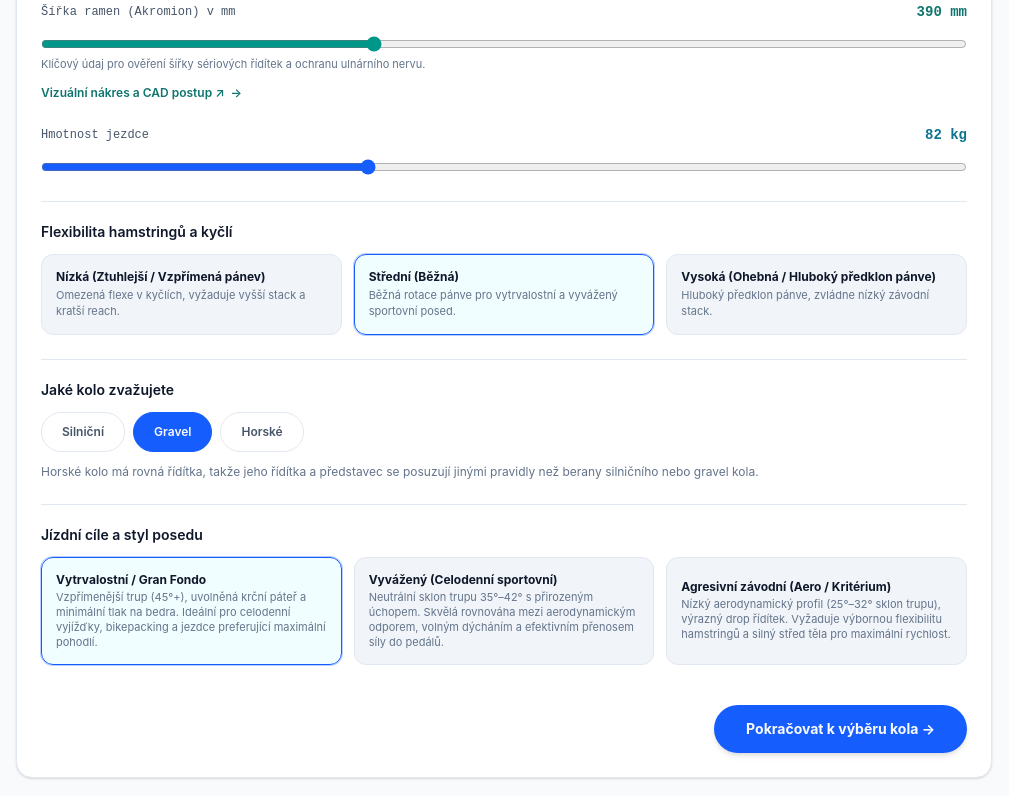
Test: Path B: the way to the bike finder (cs) › should ask the questions of the kind of bike chosen in step 1
The image size is (1009, 796).
(page scrolled)
Click the button "Pokračovat k výběru kola →" at {"x": 841, "y": 729}, box [714,705,967,753]
(page scrolled)
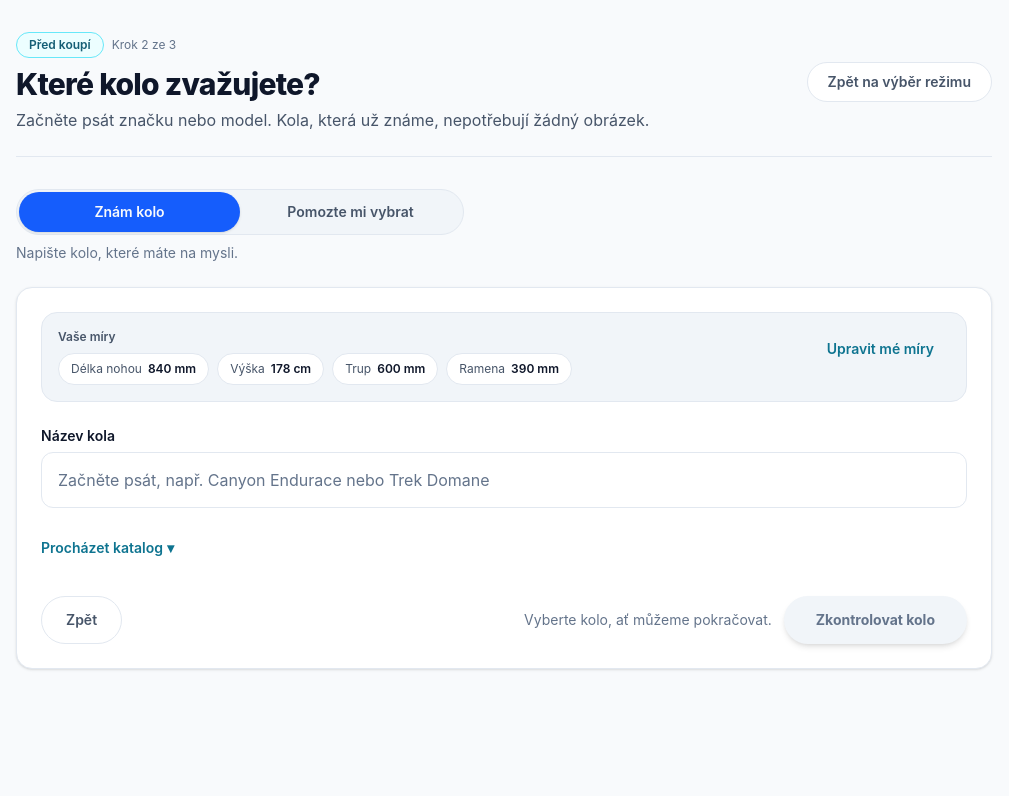
Click the tab "Pomozte mi vybrat" at {"x": 350, "y": 212}, box [240,192,461,232]
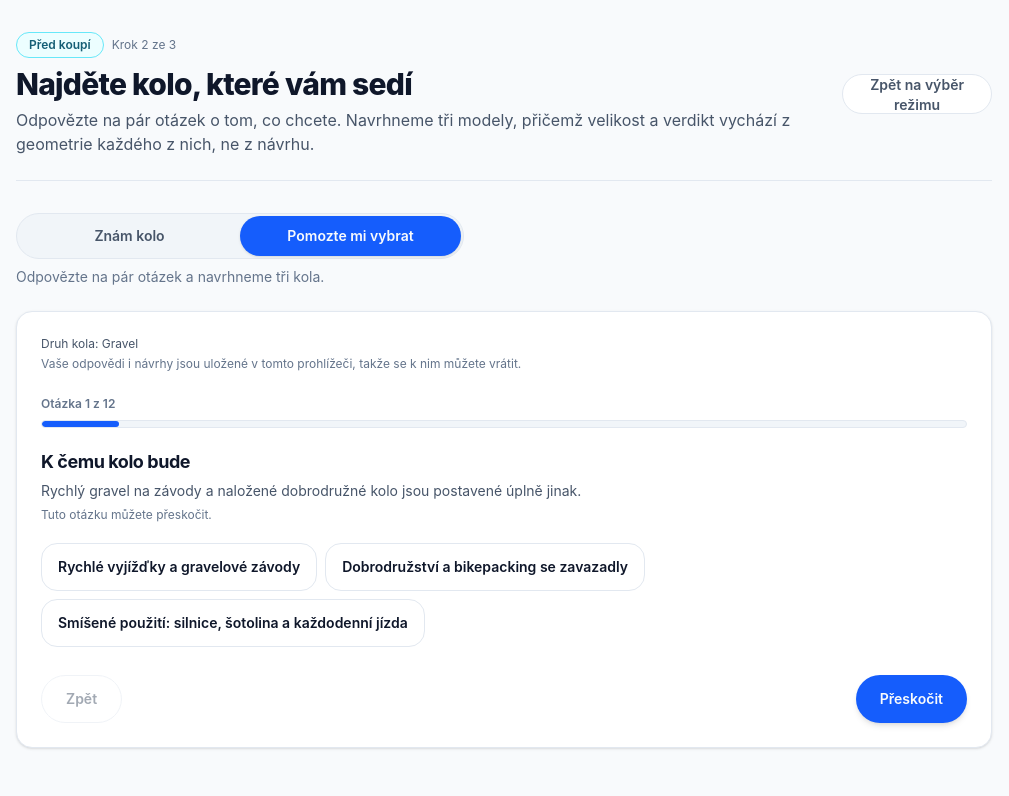
Now the heading "K čemu kolo bude" is shown, box [41,451,190,472]
